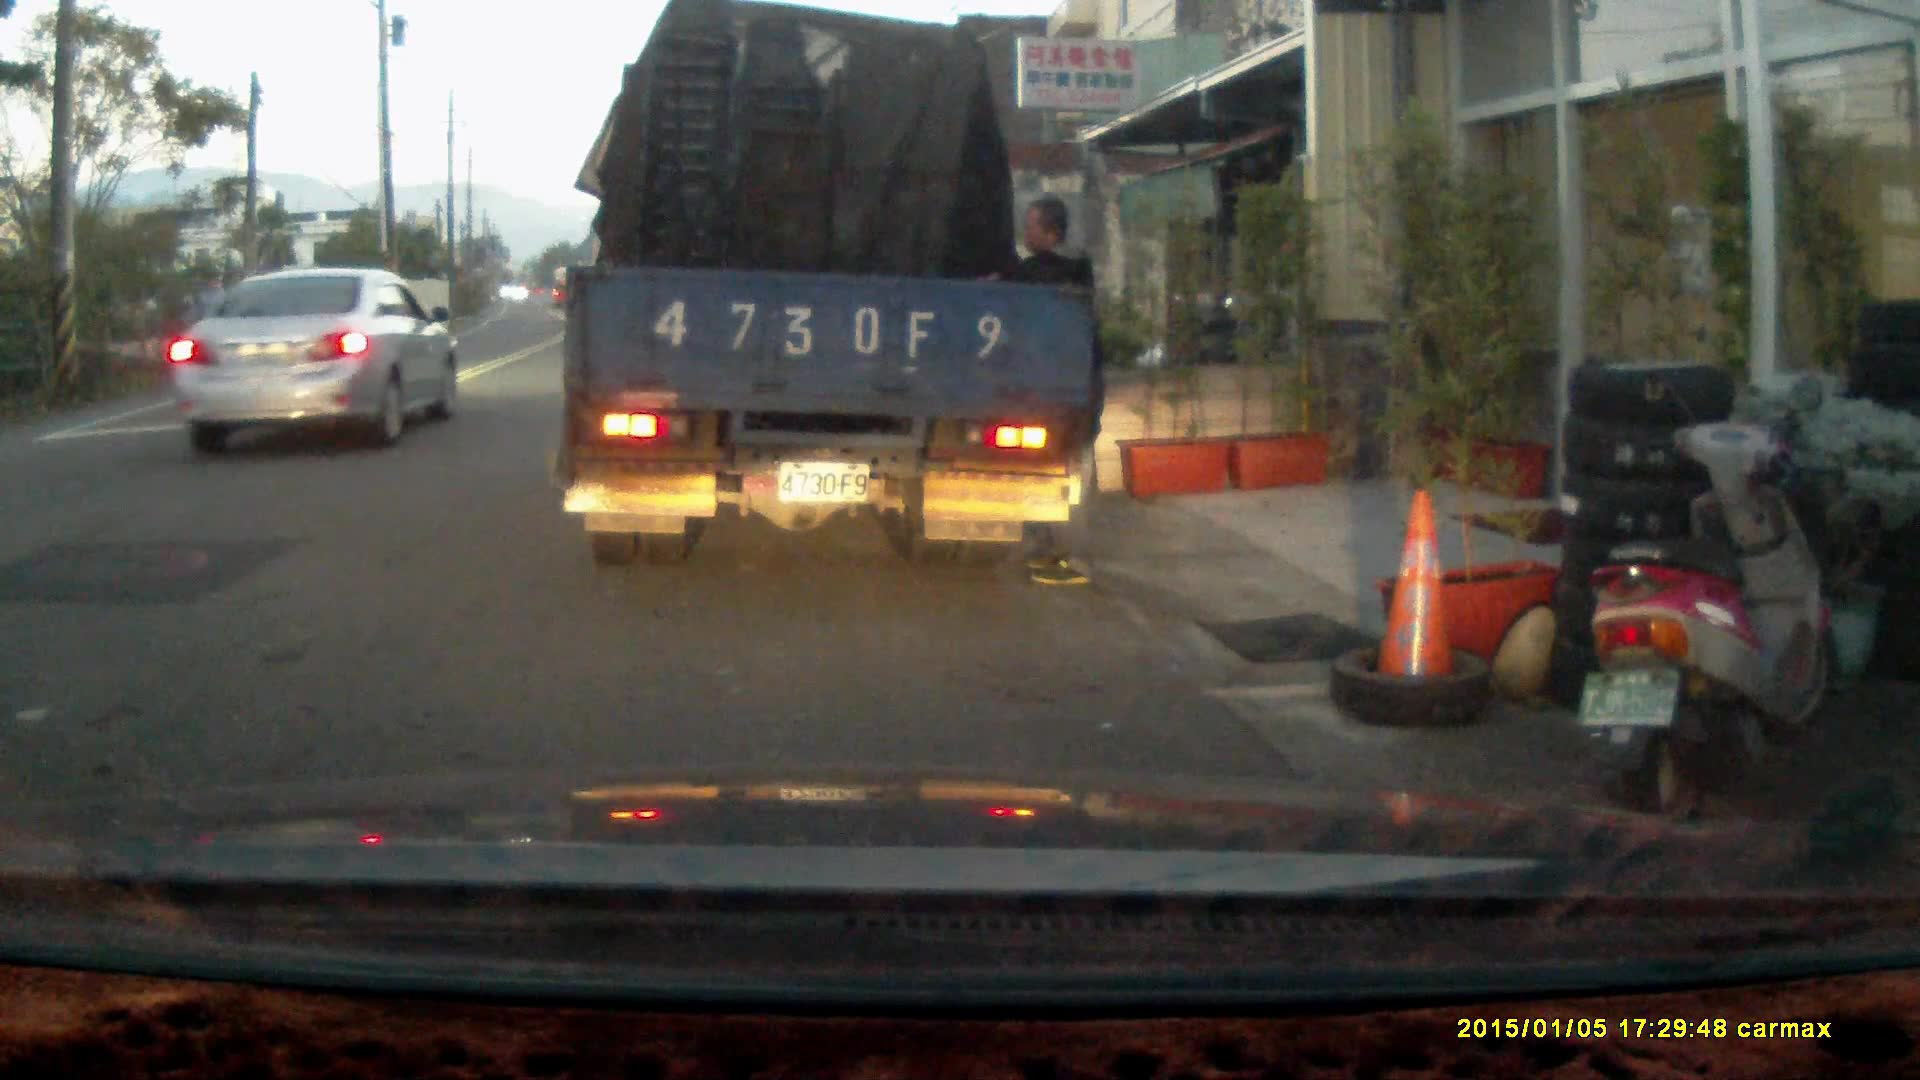pedestrian: (963, 196, 1103, 587), (194, 271, 236, 385)
vehicle: (565, 23, 1097, 572), (169, 267, 462, 457)
